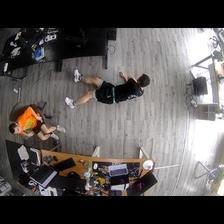fall: (65, 67, 153, 110)
normal: (9, 106, 65, 141)
